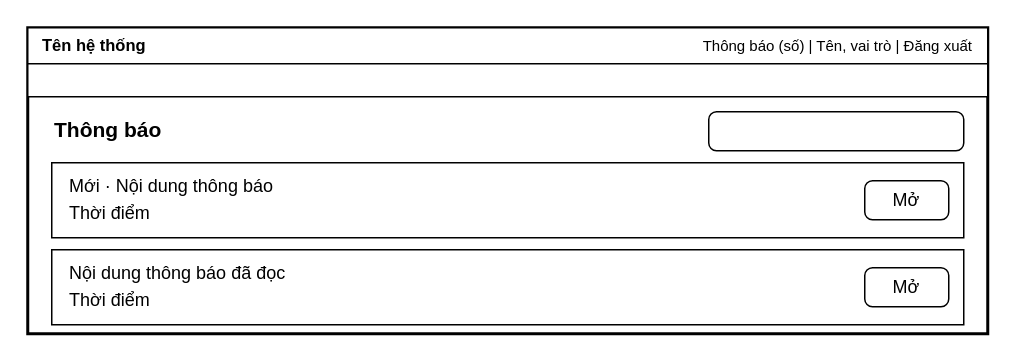
Image size: 1014x360. Some labels were removed from this diagram. The shapes that lost their labels are listed below. From the top down, each one's centre as x and y in pixels, then its label:
At point (507, 79): "Trang chủ | Tìm ca làm | Đăng ký của tôi | Lịch sử đóng góp | Hồ sơ và kỹ năng".
At point (835, 130): "Đánh dấu đã đọc tất cả".
